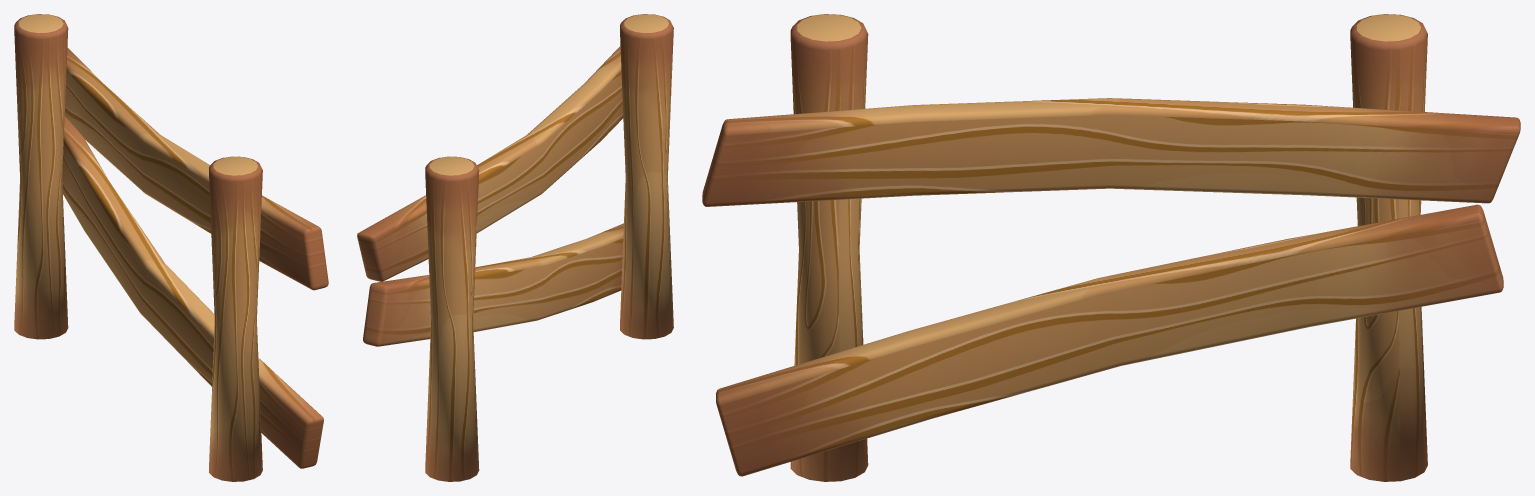
Rendered from fence3.fbx.
3 renders of one model, left to right at view 1: azimuth 30°, elevation 25°; view 2: azimuth 150°, elevation 25°; view 3: azimuth 270°, elevation 25°, orthographic. The views are drawn at different scales.
Visible parts, largest first — view 1: Cube.002; view 2: Cube.002; view 3: Cube.002.
Part boxes in pixels (bbox=[...]): Cube.002: bbox=[14, 14, 328, 481]; Cube.002: bbox=[357, 14, 673, 481]; Cube.002: bbox=[702, 14, 1520, 481].
Bounding box in the file's own units: 18.71 × 73.49 × 125.
